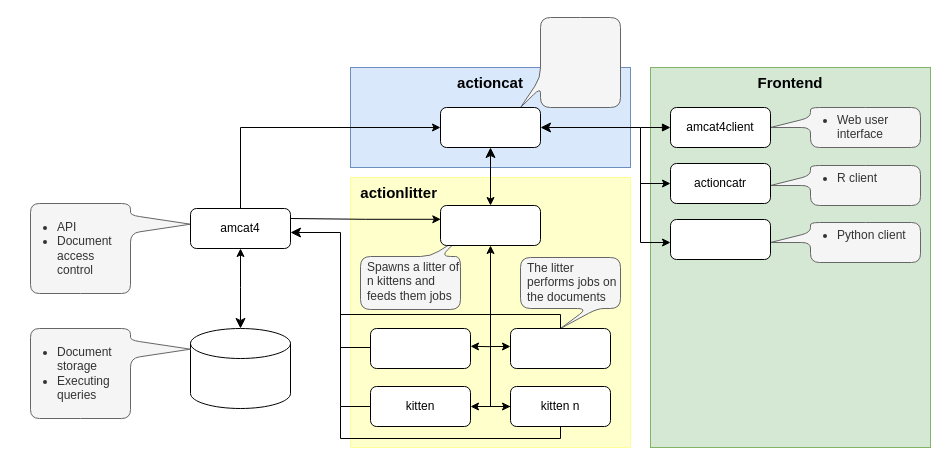
Some shapes in this 948 by 465 pixel diagram are drawn without their labels. The centre of each missing label's shape, as x and y in pixels:
actioncatpy: the point at 720,239
creates job queue from: query + instructions + auth: the point at 570,62
Elasticsearch DB: the point at 240,368
herder: the point at 490,225
kitten 1: the point at 420,348
kitten 2: the point at 560,348
RESTServer: the point at 490,127
